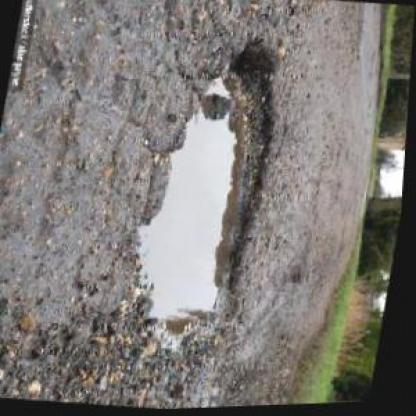pothole: (114, 30, 295, 378)
